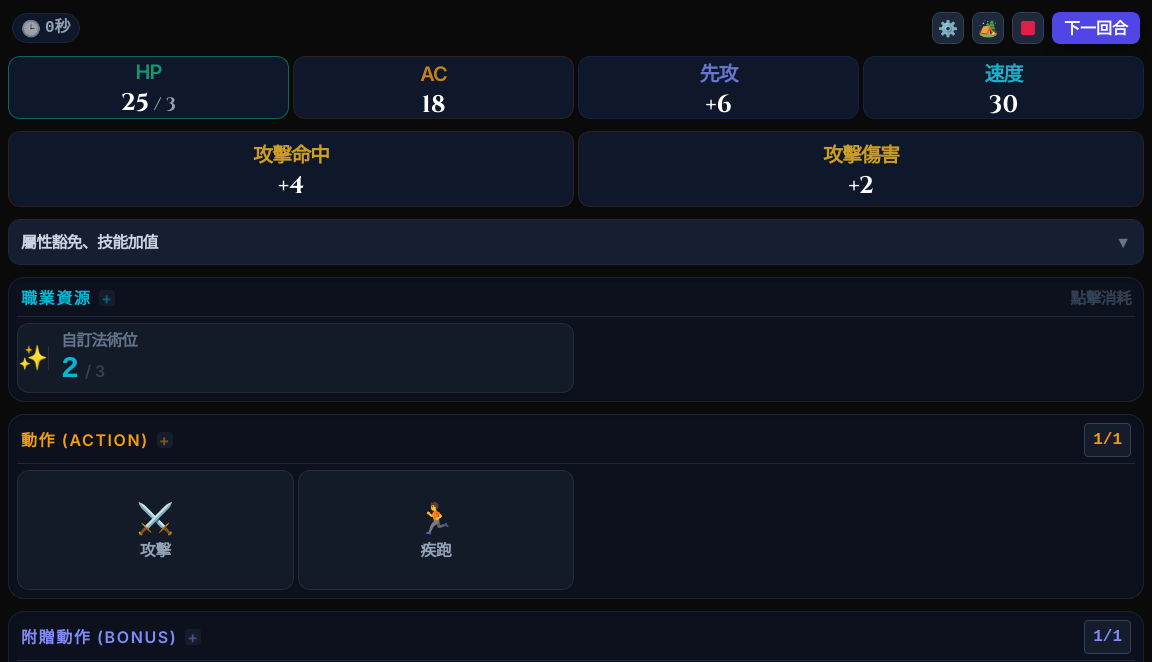
it: CombatView - 預設項目保護功能測試 › 應該為自訂項目顯示刪除按鈕
Click the button "⚙️" at (948, 28), box [932,12,964,44]
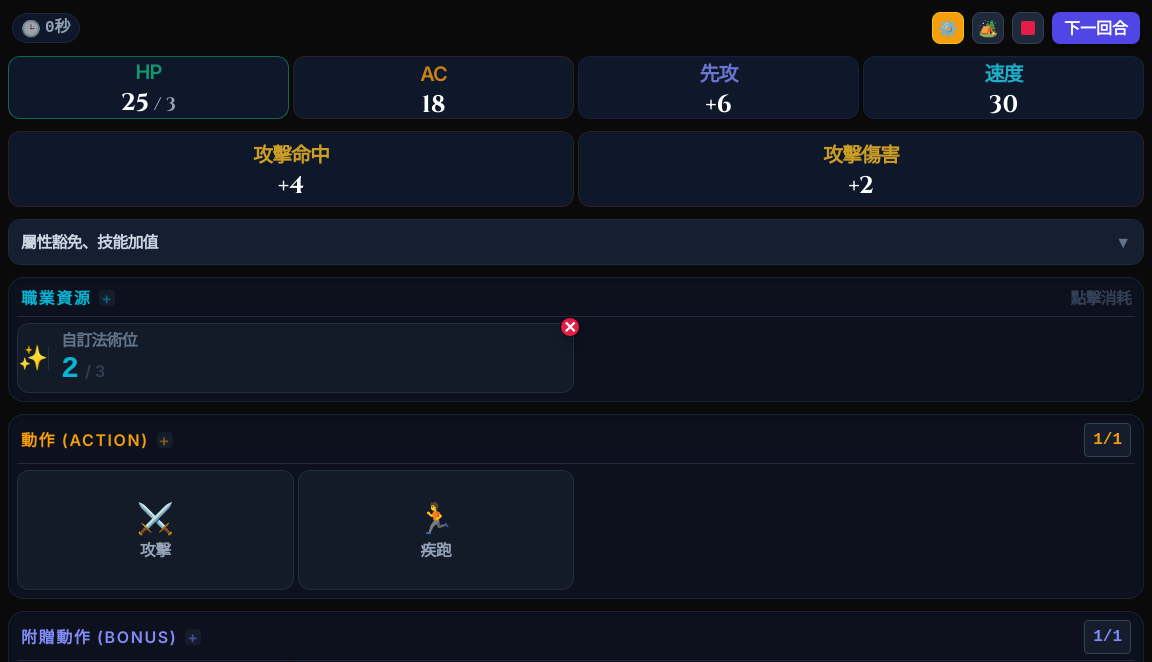
Check: the button "✨ 自訂法術位 2 / 3" is shown, box [17,323,574,393]
Check: the 1st button "✕" is shown, box [560,317,580,337]
